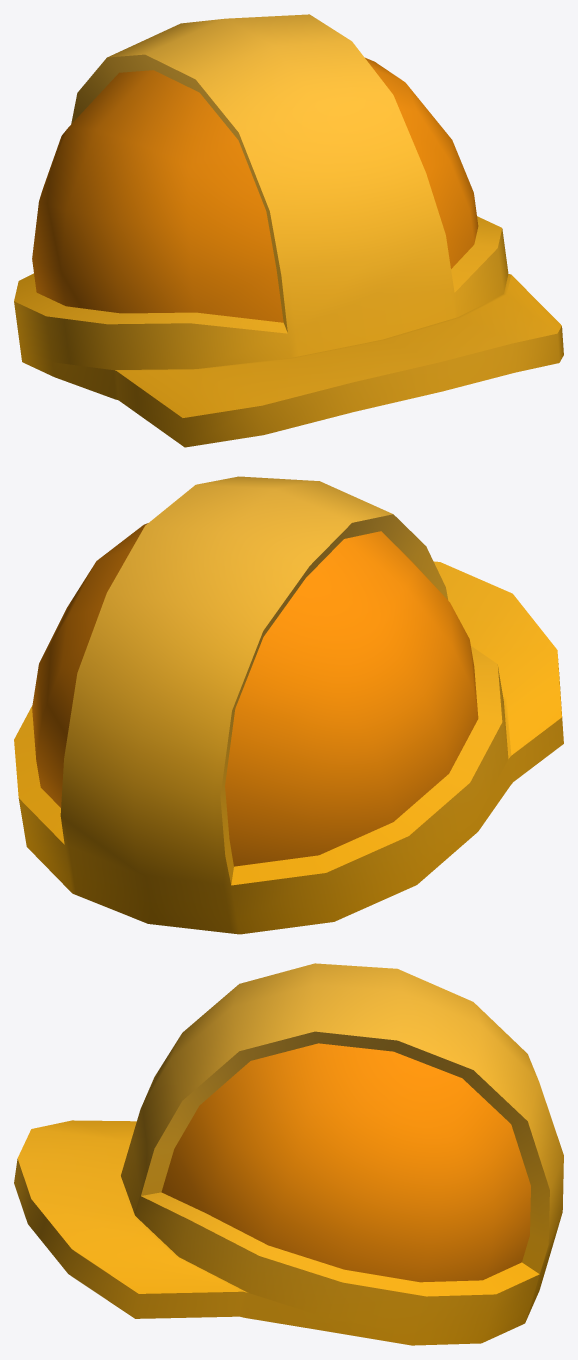
File: Head_Prop_Helmet_01.fbx
3 renders of one model, top to bottom at view 1: azimuth 30°, elevation 25°; view 2: azimuth 150°, elevation 25°; view 3: azimuth 270°, elevation 25°, orthographic. The views are drawn at different scales.
Visible parts, largest first — view 1: Head_Prop_Helmet_01; view 2: Head_Prop_Helmet_01; view 3: Head_Prop_Helmet_01.
Boxes of the visible parts, <box> form: Head_Prop_Helmet_01: <box>14,14,563,447</box>; Head_Prop_Helmet_01: <box>14,476,563,934</box>; Head_Prop_Helmet_01: <box>14,963,563,1345</box>.
Size of the model in its own units: 109 by 83.73 by 137.
